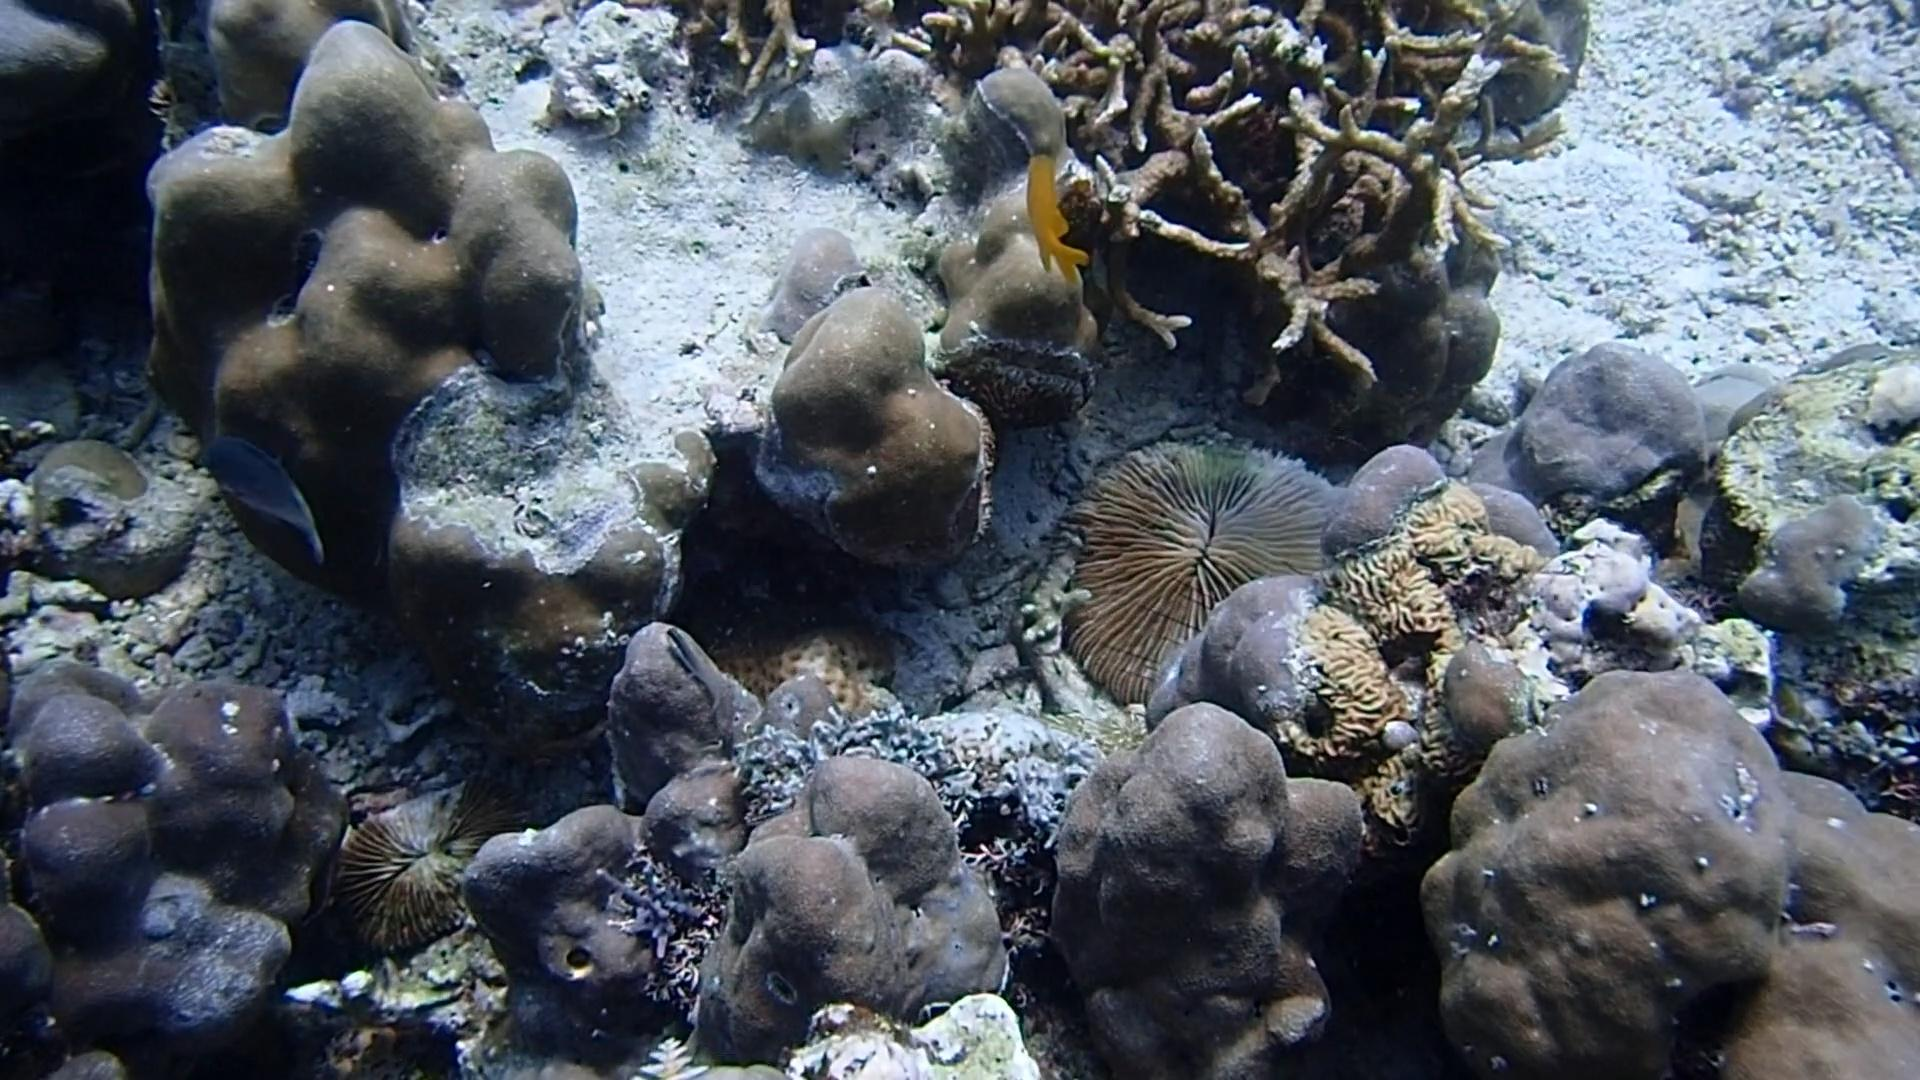Blue Fish Two: (177, 422, 342, 576)
Yellow Fish: (1009, 146, 1095, 294)
